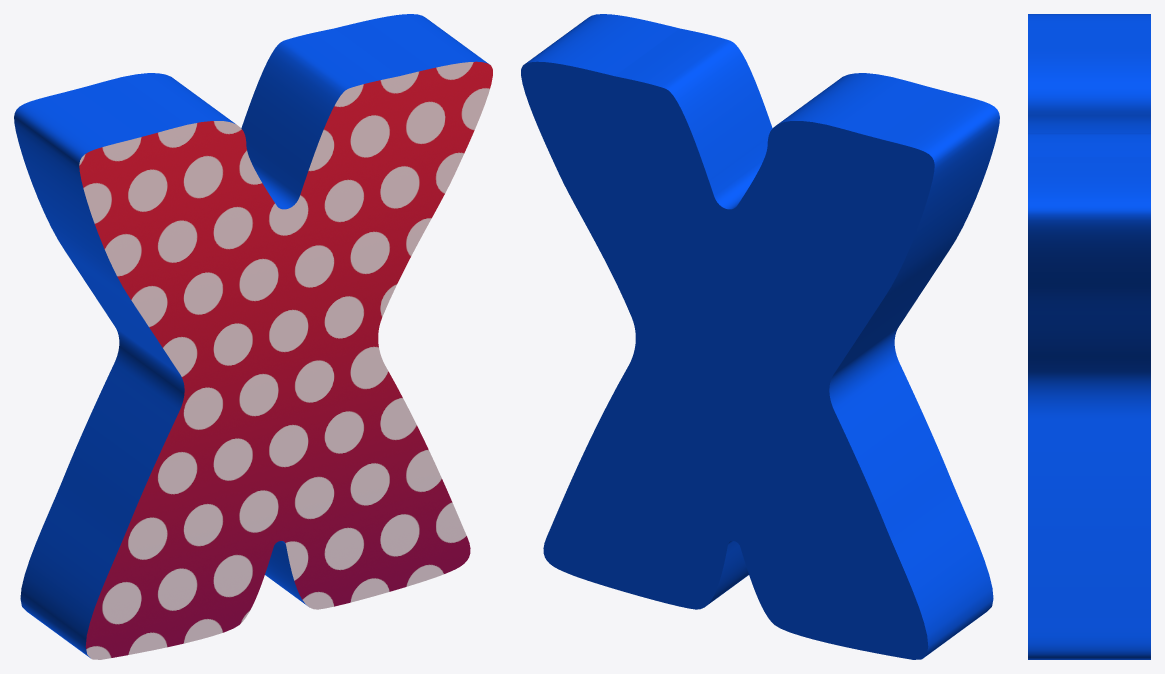
The picture shows the model from 3 angles, left to right: view 1: azimuth 30°, elevation 25°; view 2: azimuth 150°, elevation 25°; view 3: azimuth 270°, elevation 25°; orthographic projection. The views are drawn at different scales.
Visible parts, largest first — view 1: X; view 2: X; view 3: X.
Part boxes in pixels (x1,y1,x2,y2): X: (14,14,492,659); X: (521,14,999,659); X: (1028,14,1150,659).
Size of the model in its own units: 73.18 by 87.58 by 20.
2 materials, 1 textured.
